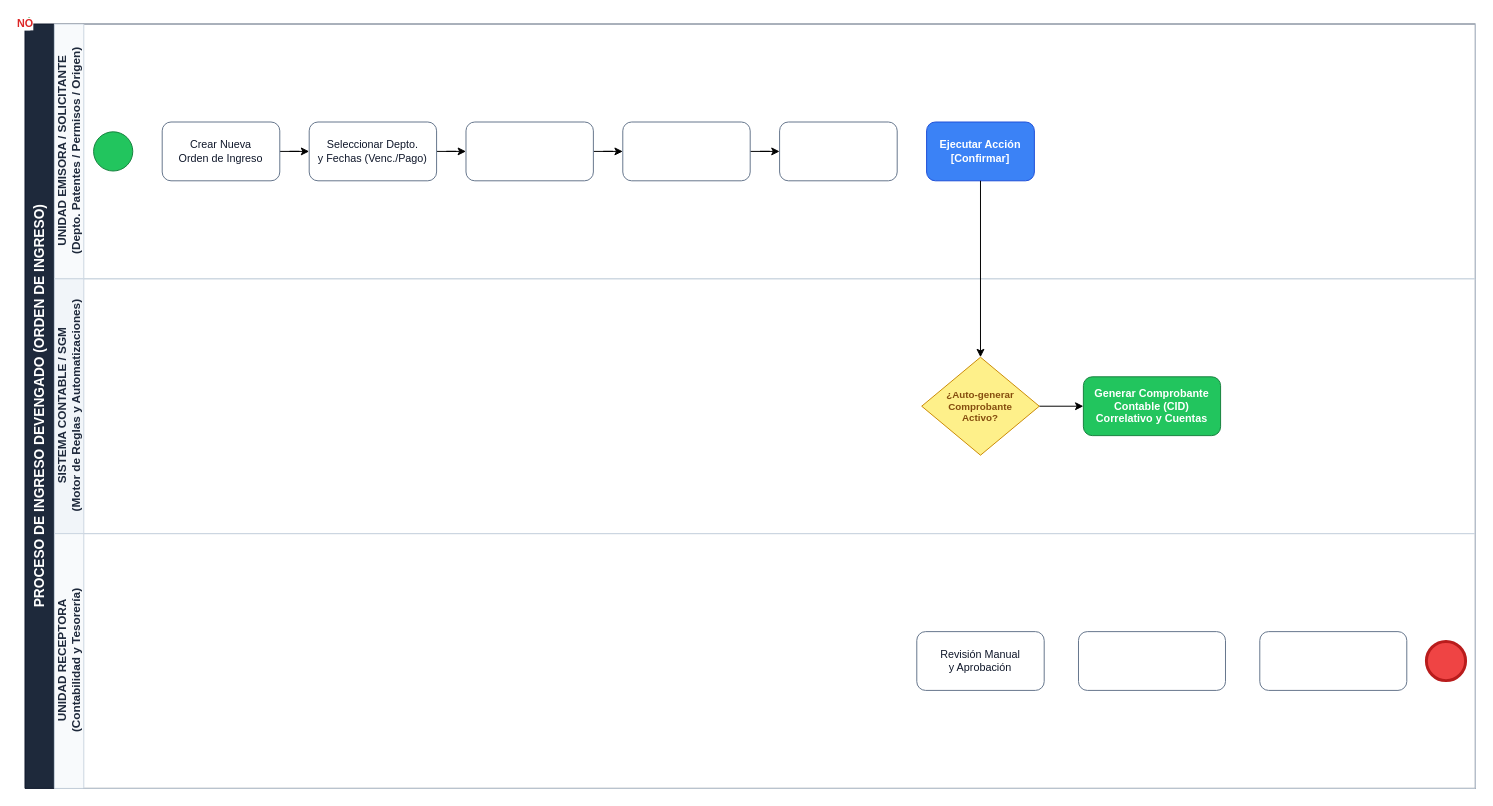
This 1493x806 diagram has some shape labels left out. Here are the shapes that lost their labels. From the top down, the centre of each, then its label:
(x=529, y=151): Buscar Contribuyente (RUT / Nombre / Email)
(x=686, y=151): Agregar Ítem de Ingreso y Monto ($68.000)
(x=838, y=151): Guardar Orden [Estado: Borrador]
(x=1151, y=660): Comprobante en Estado Confirmado [Devengado Realizado]
(x=1333, y=660): Recepcionar Pago / Registrar Ingreso Percibido
